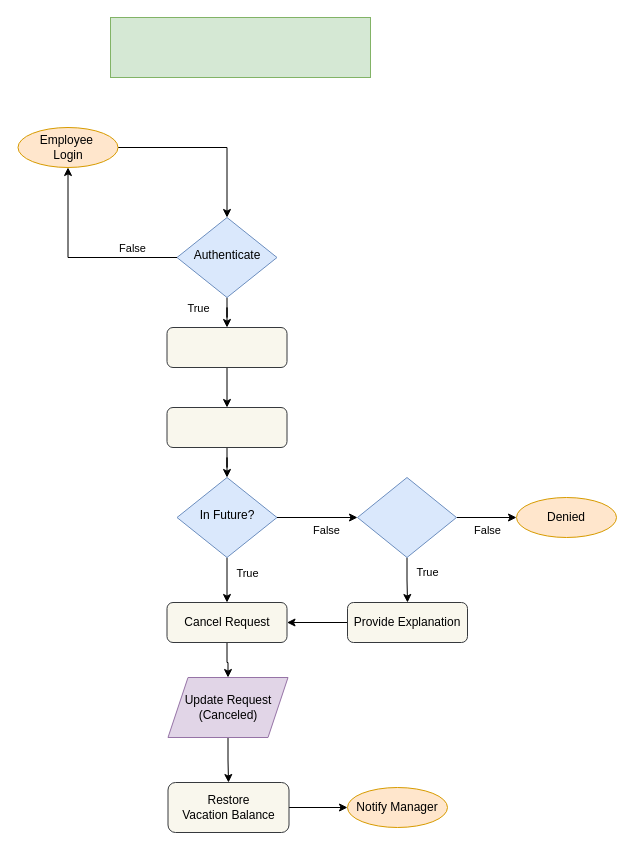
Some shapes in this 634 by 850 pixel diagram are drawn without their labels. Here are the shapes that lost their labels. From the top down, the centre of each, then its label:
At [240,47]: "Cancel Vacation Request Flow".
At [226,347]: "ViewVacation Requests".
At [226,427]: "Choose Approved Request".
At [406,517]: "Less than 5 B Days?".
